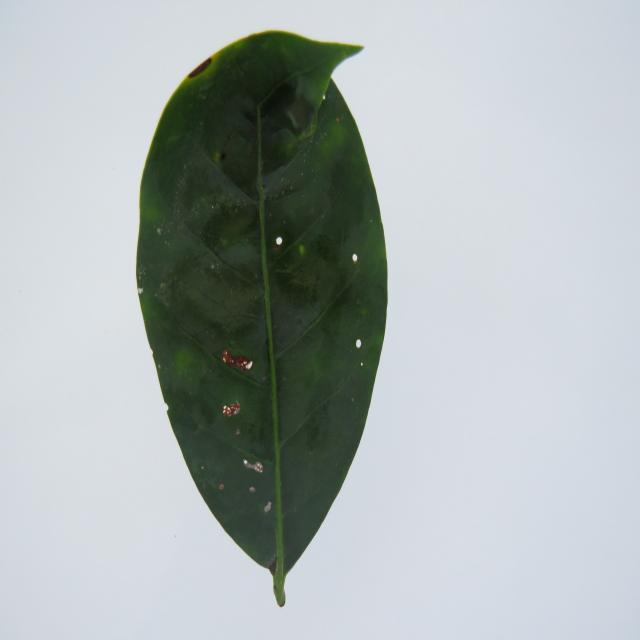DeficienciaNutricional-Boro: (136, 32, 388, 605)
